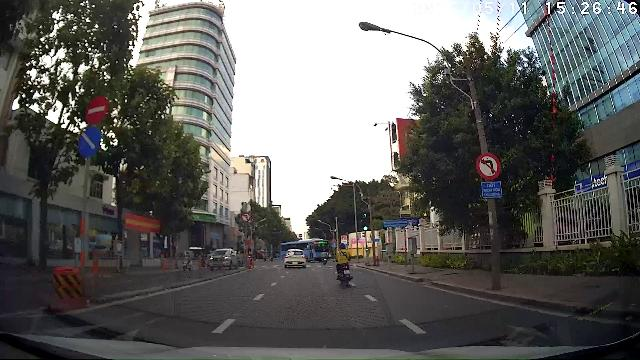123a-cam-re-trai: (476, 153, 501, 180)
